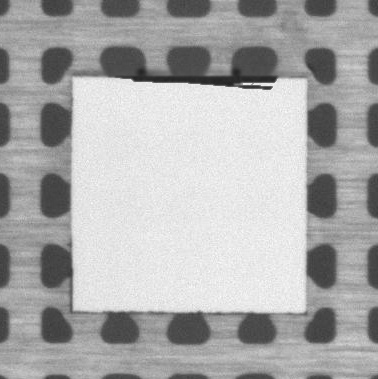DIE_BROKEN: (109, 72, 281, 92)
